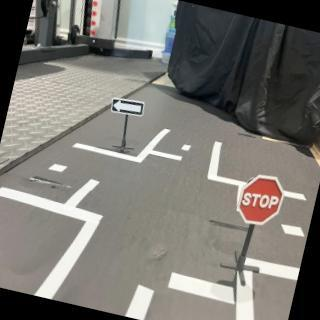sign_oneway_left: (110, 94, 148, 122)
sign_stop: (235, 171, 288, 230)
